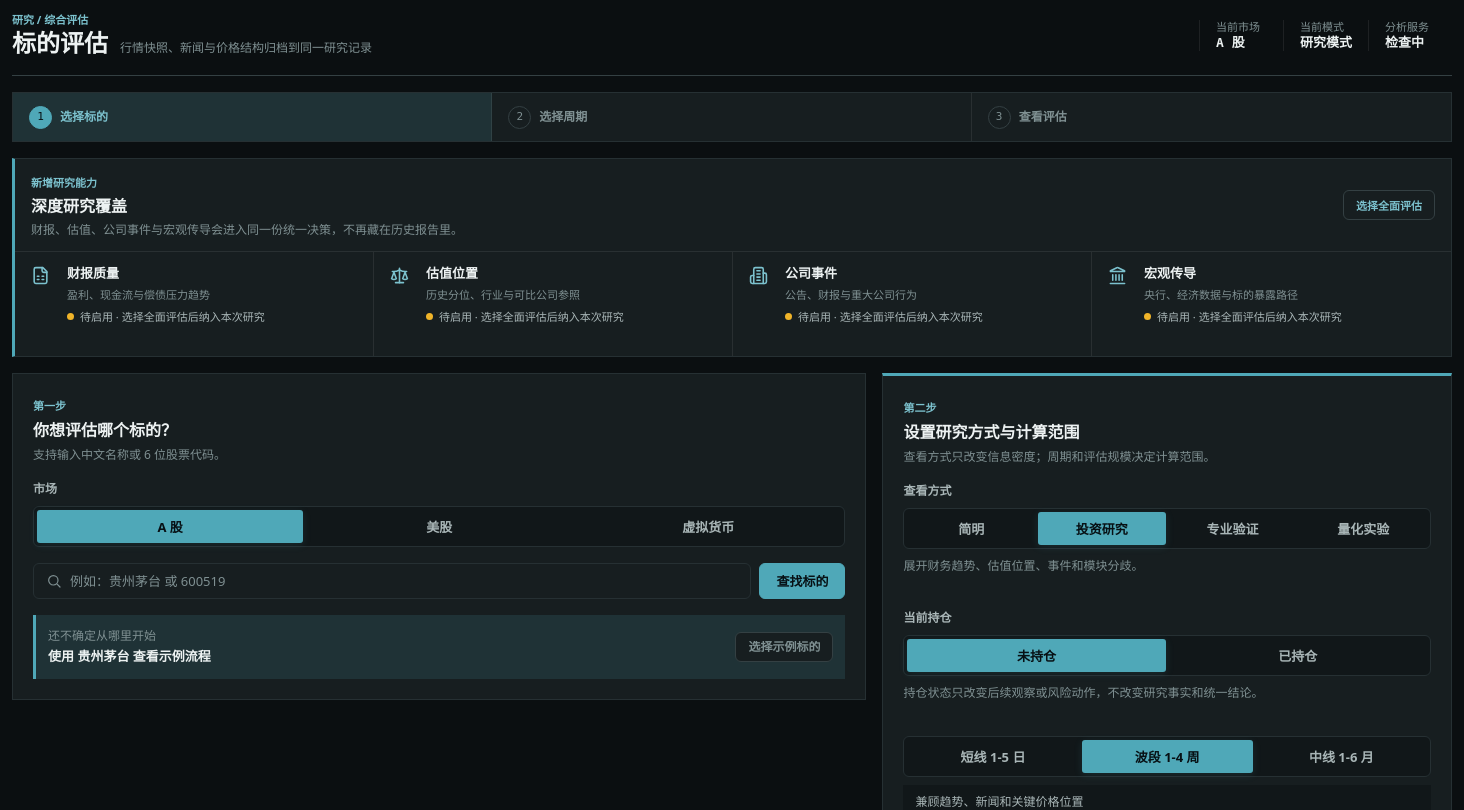
StockEvaluationStartPage › creates an evaluation task only after the explicit start action
This screenshot has width=1464, height=810.
Click the button "选择示例标的". click: (784, 647)
box: [735,632,833,662]
(page scrolled)
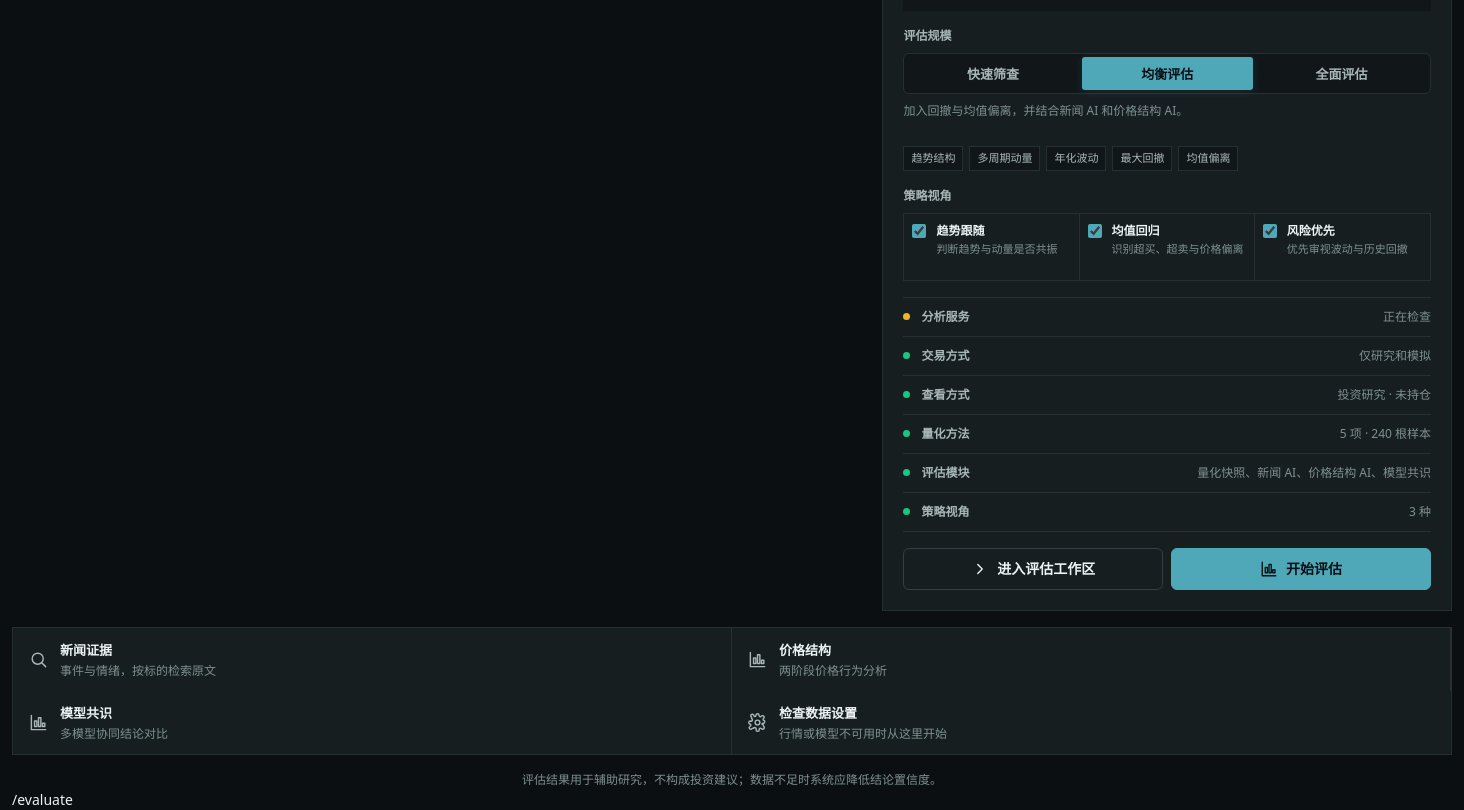
Click the button "开始评估". click: (1301, 568)
box: [1171,548,1431,590]
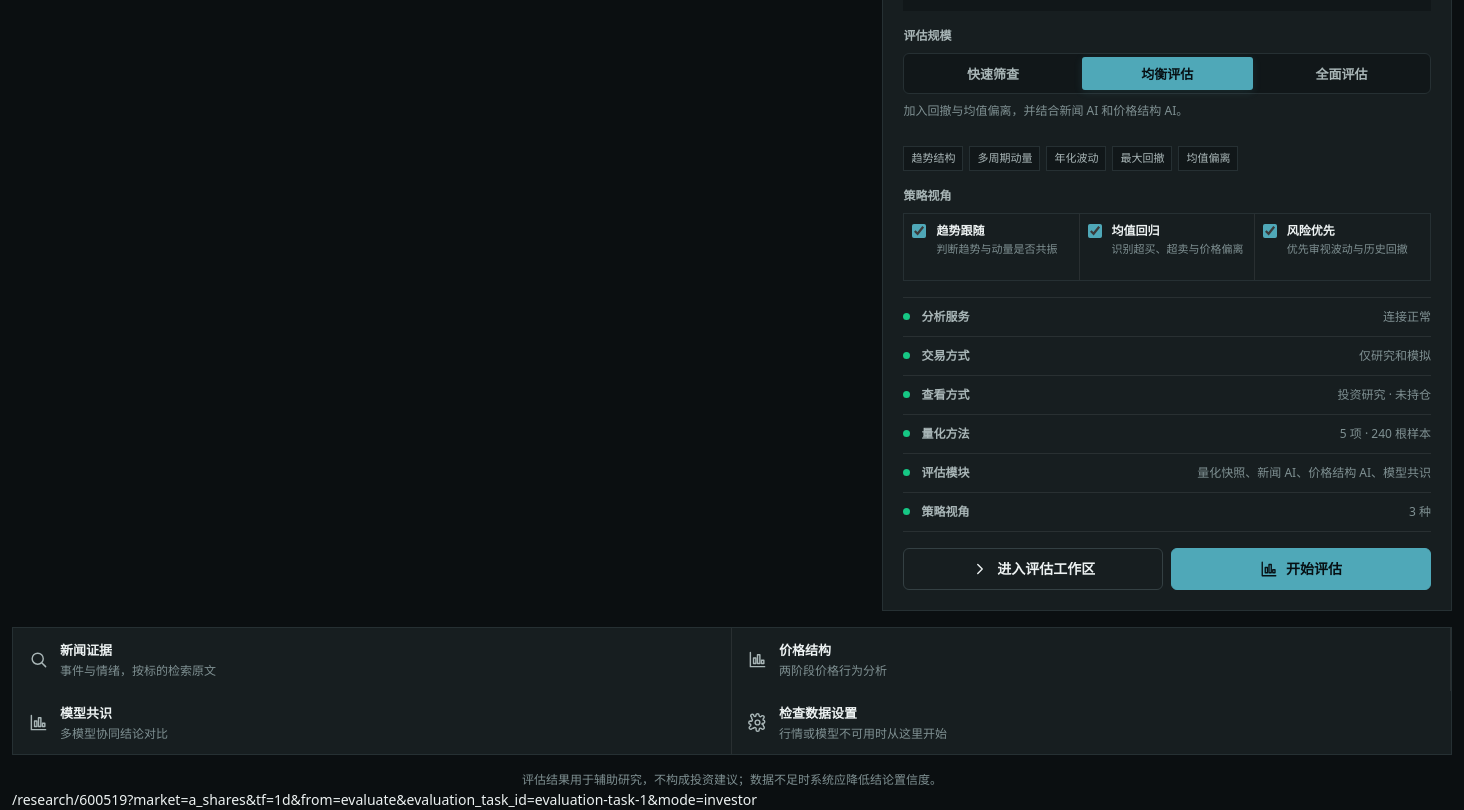
Expected: the text named "current location" shows "evaluation_task_id=evaluation-task-1", [12,790,757,808]
